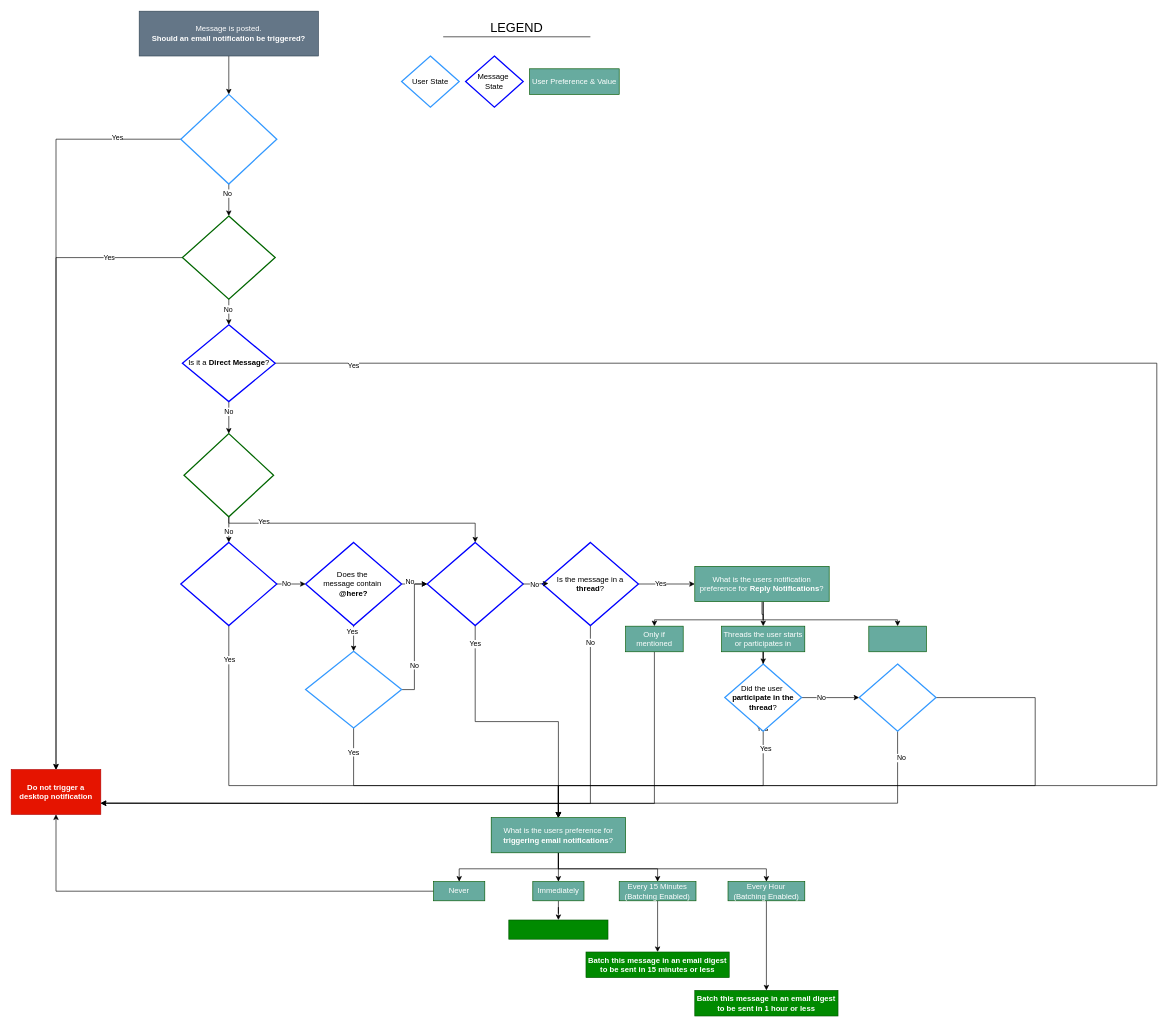
The diagram is 1173 pixels wide and 1027 high, and some of its shapes have lost their labels. Here are the shapes that lost their labels. From the top down, the box of each, then its label:
(180, 93, 277, 184): Is the user Online or Do Not Disturb?
(181, 215, 276, 300): Is the channel muted?
(183, 433, 274, 517): Ignore mentions for @channel , @here and @all in this channel?
(180, 541, 277, 626): Does the message contain @channel or @all?
(426, 541, 524, 626): Does the message contain other words that trigger mentions ?
(868, 626, 926, 652): Threads the user starts
(305, 650, 402, 728): Is the user status online or away?
(858, 663, 936, 732): Did the user start the thread ?
(508, 919, 608, 939): Trigger an email notification immediately
